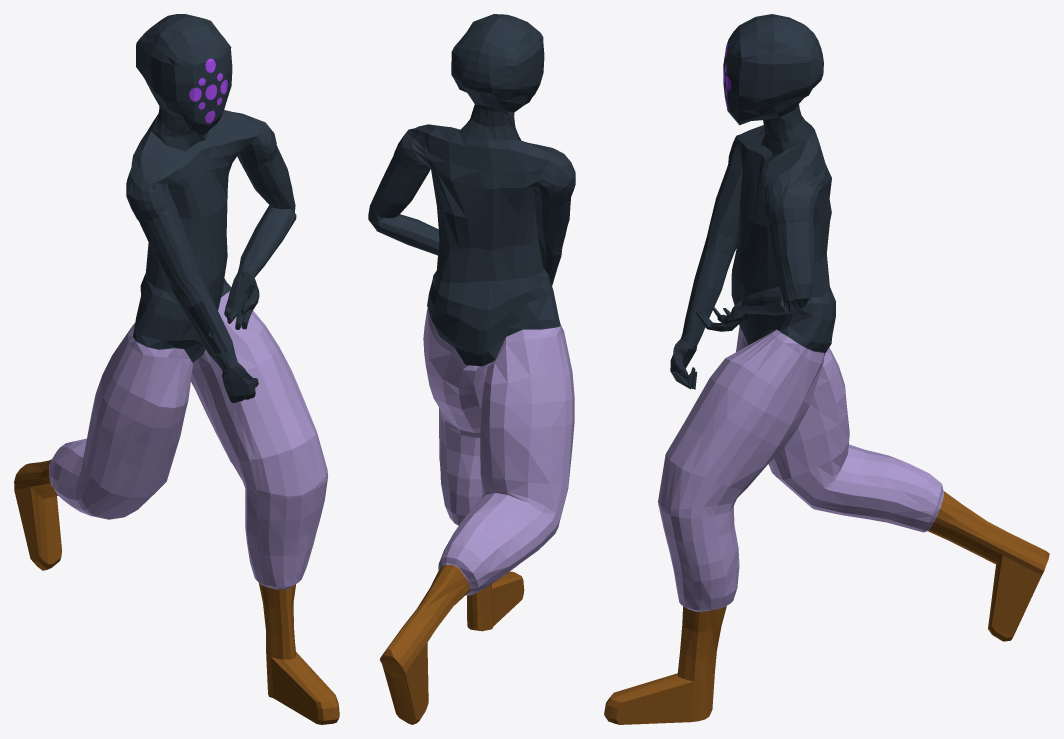
The model's file is Oracle_Run_000001.obj.
3 views of the same model, side by side, from view 1: azimuth 30°, elevation 25°; view 2: azimuth 150°, elevation 25°; view 3: azimuth 270°, elevation 25° (orthographic). The views are drawn at different scales.
Parts seen in each view (by area): view 1: Cube; view 2: Cube; view 3: Cube.
Boxes of the visible parts, box(x1,y1,x2,y2) form: Cube: box(14, 14, 339, 724); Cube: box(368, 14, 575, 724); Cube: box(604, 14, 1049, 724).
Size of the model in its own units: 1.19 by 3.73 by 2.25.
